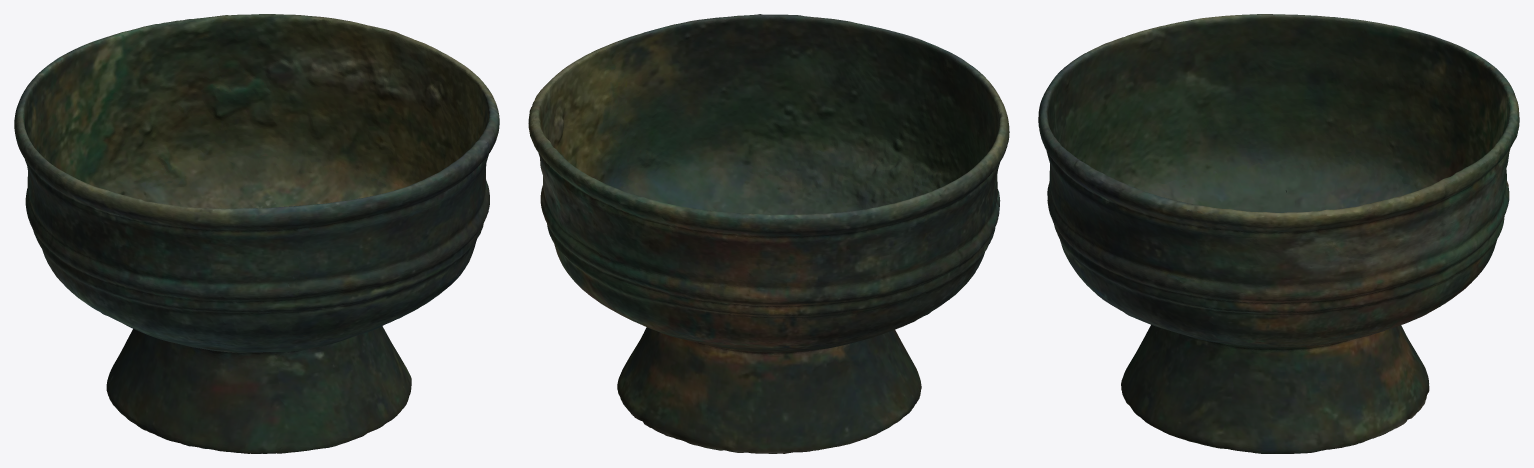
Rendered from bei.glb.
The picture shows the model from 3 angles, left to right: view 1: azimuth 30°, elevation 25°; view 2: azimuth 150°, elevation 25°; view 3: azimuth 270°, elevation 25°; orthographic projection.
Visible parts, largest first — view 1: ffed6653_53f6_455e_8817_05922e848951; view 2: ffed6653_53f6_455e_8817_05922e848951; view 3: ffed6653_53f6_455e_8817_05922e848951.
Boxes of the visible parts, left/top/right/bottom form: ffed6653_53f6_455e_8817_05922e848951: left=14, top=14, right=499, bottom=453; ffed6653_53f6_455e_8817_05922e848951: left=528, top=14, right=1009, bottom=453; ffed6653_53f6_455e_8817_05922e848951: left=1038, top=14, right=1519, bottom=453.
Bounding box in the file's own units: 157 × 100 × 155.
Materials: 1 (1 with a texture image).
